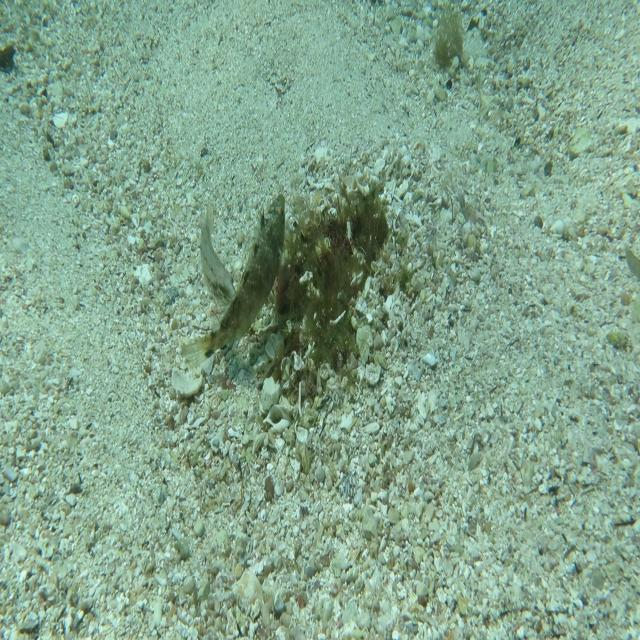FAN: (176, 190, 290, 372)
core_nest: (326, 200, 384, 258)
female: (197, 197, 237, 307)
nest: (264, 163, 409, 404)
